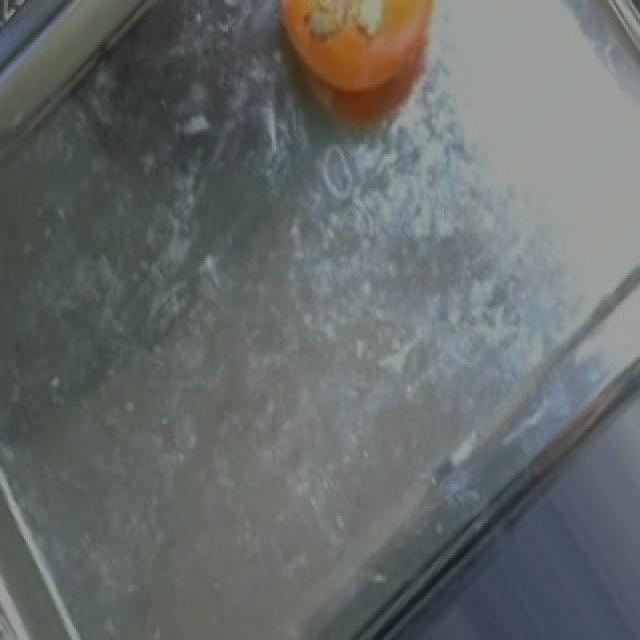Fruit: (246, 0, 466, 159)
